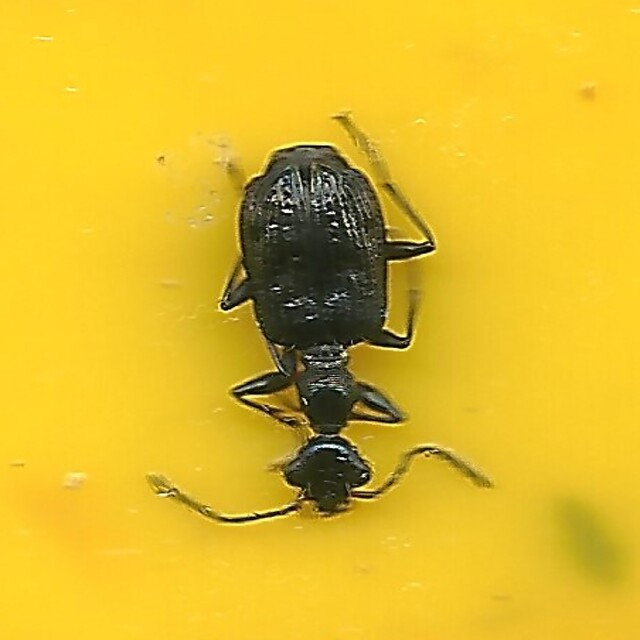Coleoptera: (142, 116, 498, 524)
